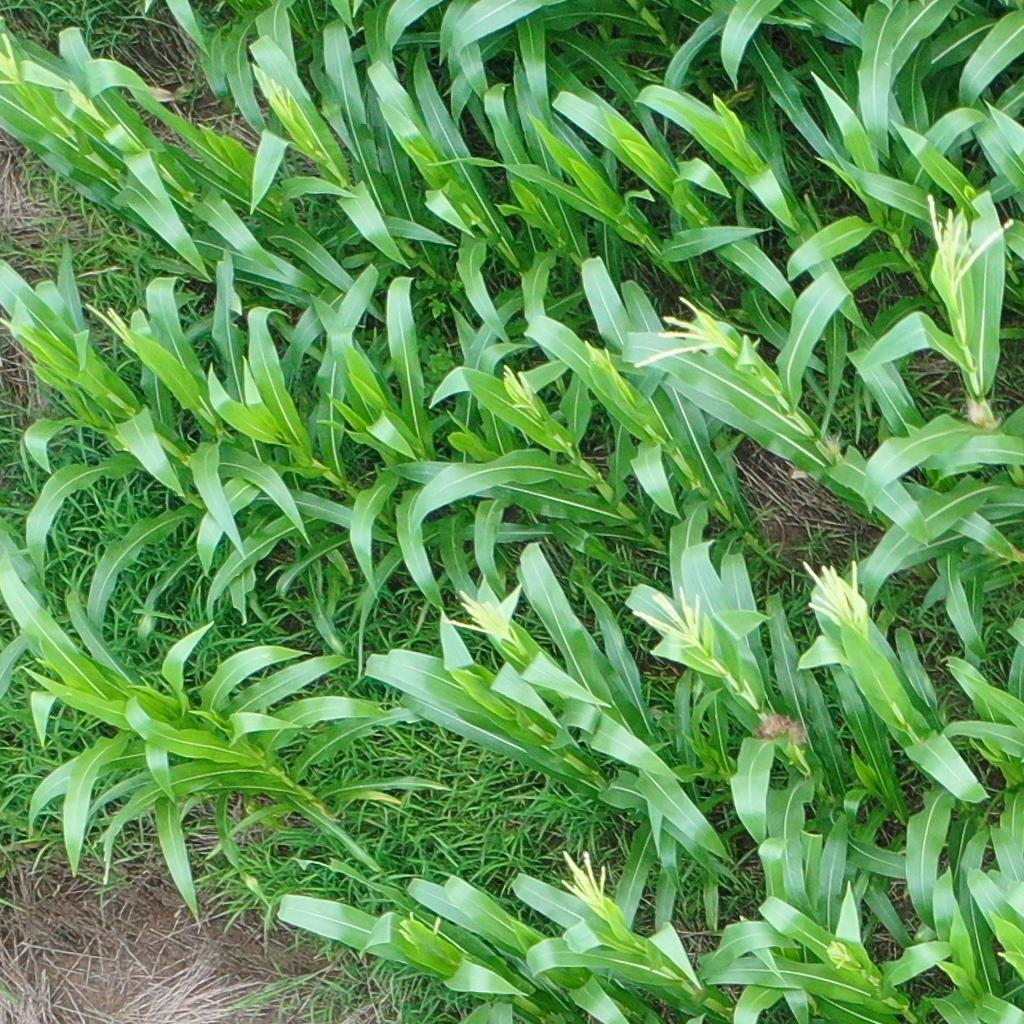Tassel: (923, 190, 1014, 291), (633, 295, 732, 372), (439, 588, 524, 651), (630, 587, 705, 648), (802, 559, 865, 629), (561, 848, 610, 914), (82, 302, 136, 349), (65, 78, 109, 128), (503, 364, 540, 413), (396, 909, 446, 944), (264, 71, 296, 119), (1, 34, 23, 90), (581, 338, 611, 371), (826, 939, 853, 972)
